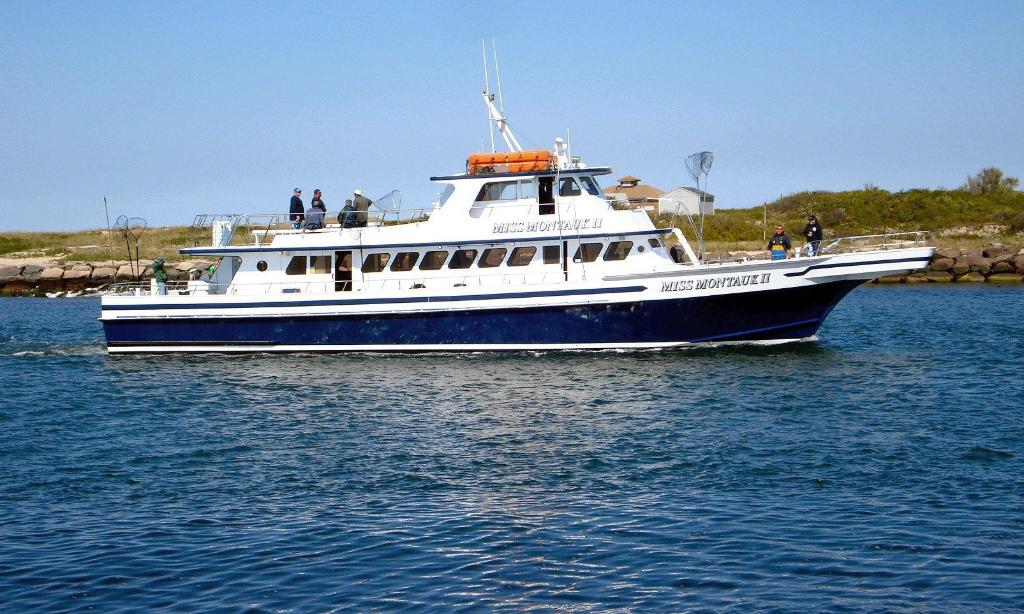PassengerShip: (84, 73, 950, 361)
